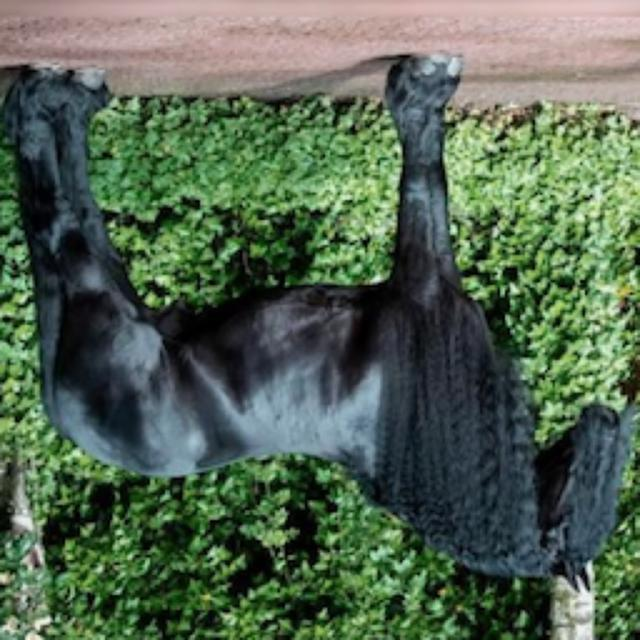Horse: (2, 48, 640, 600)
